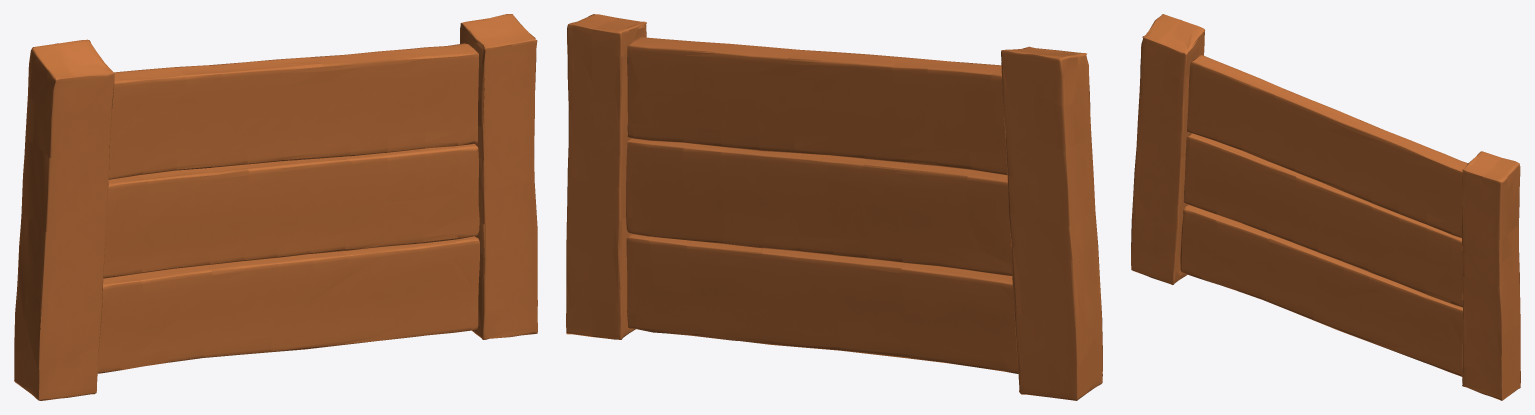
File: wall.glb
3 renders of one model, left to right at view 1: azimuth 30°, elevation 25°; view 2: azimuth 150°, elevation 25°; view 3: azimuth 330°, elevation 25°, orthographic. The views are drawn at different scales.
Bounding box in the file's own units: 2.7 × 2 × 0.25.
1 material, 1 textured.
